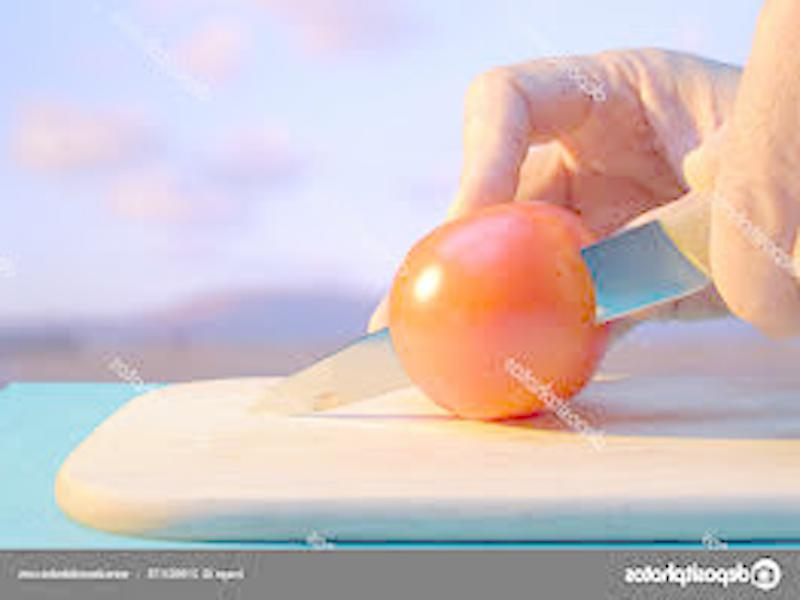Tomato: (385, 204, 610, 424)
